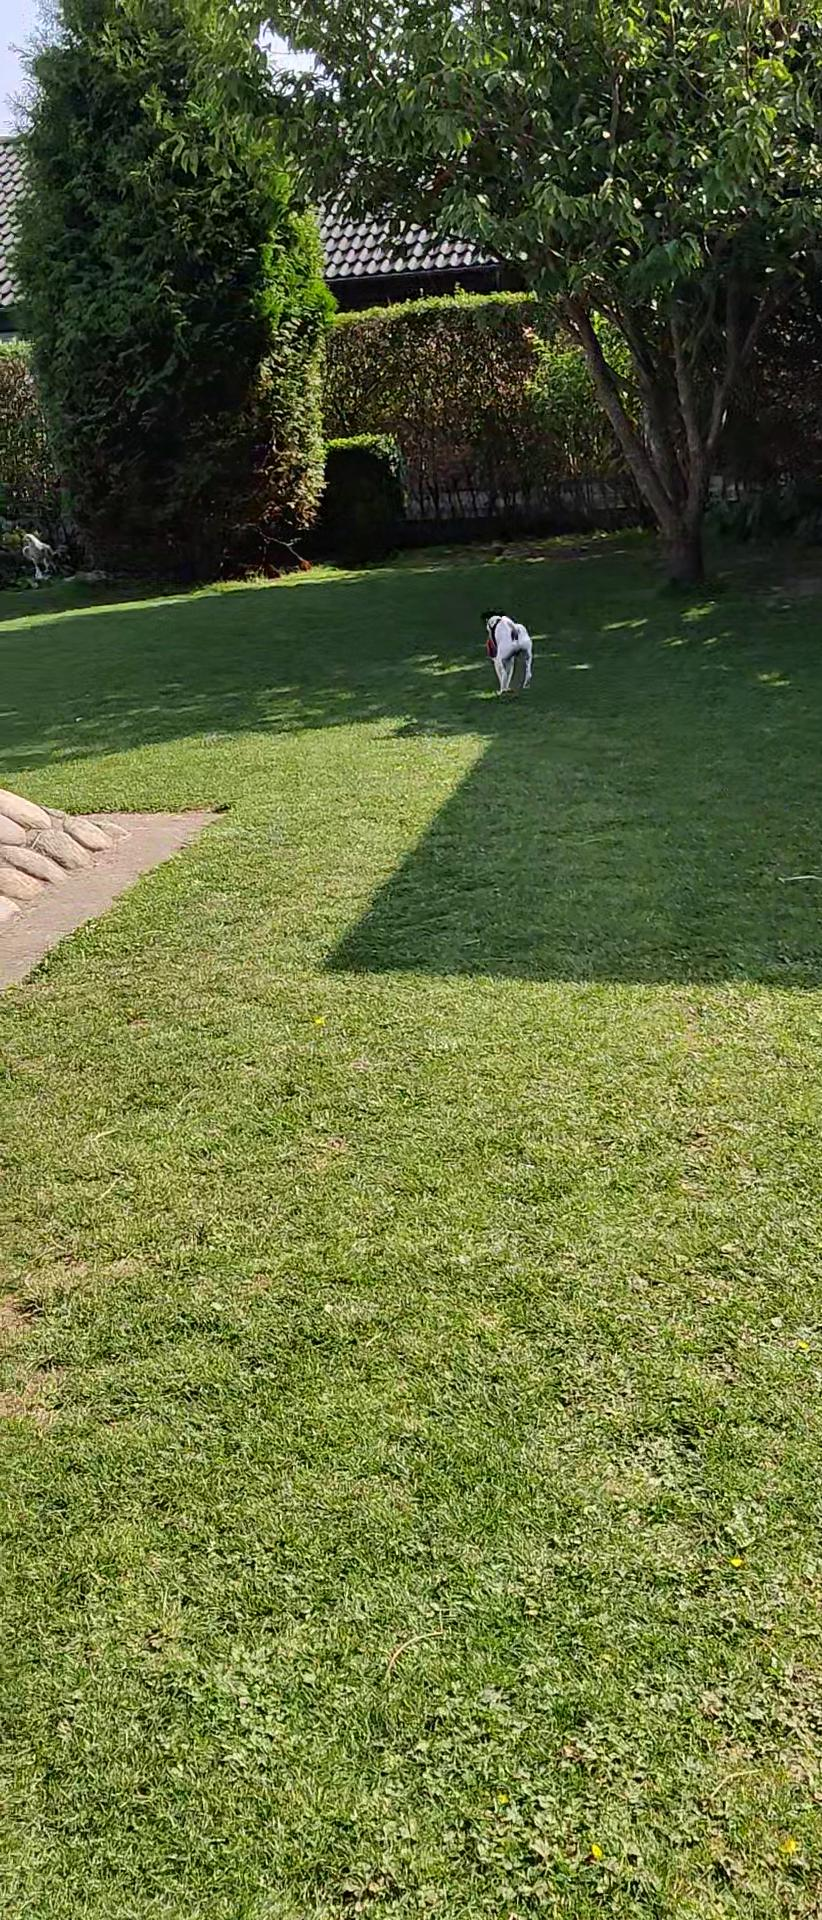Dog: (475, 594, 538, 700)
